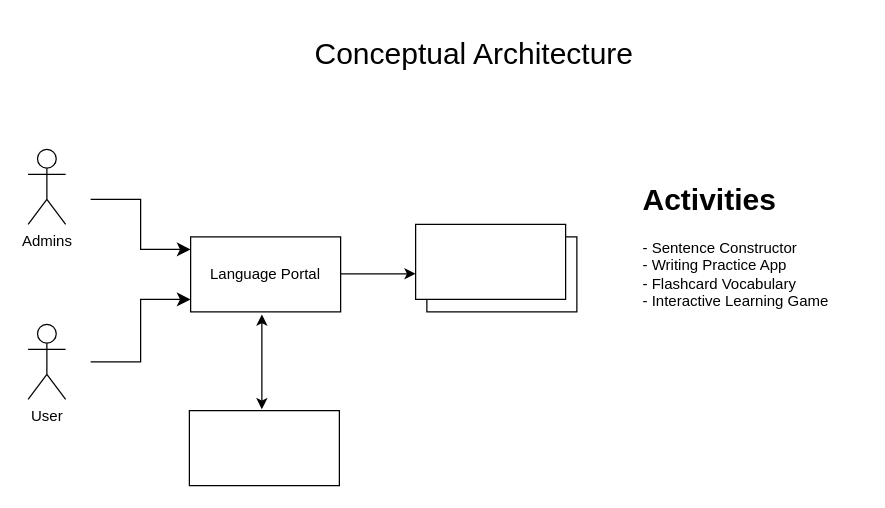
The diagram is 885 pixels wide and 508 high, and some of its shapes have lost their labels. Each missing label, with the centre of its shape:
"Activities" belongs at pixel 490 261.
"Database (Words, Sentences, Paragraphs)" belongs at pixel 263 447.
